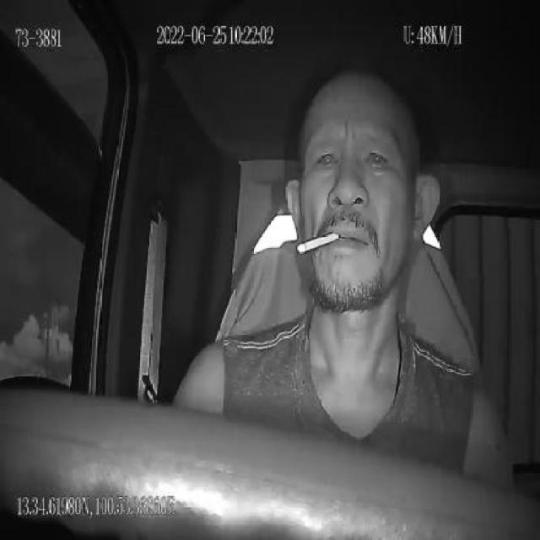smoking: (297, 230, 339, 255)
